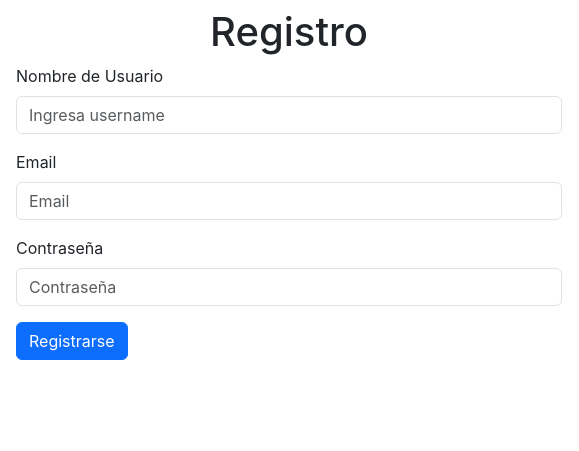
it: Register Component › shows error when fields are empty
The image size is (579, 451).
What coordinates should you click on to do the following:
click the button "Registrarse"
I would click on:
 (72, 341)
Its box is [16, 322, 128, 360].
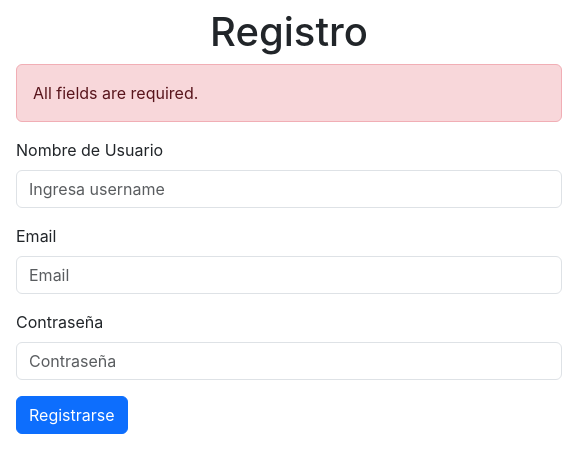
Check: the text "All fields are required." is shown, box [16, 64, 562, 122]
